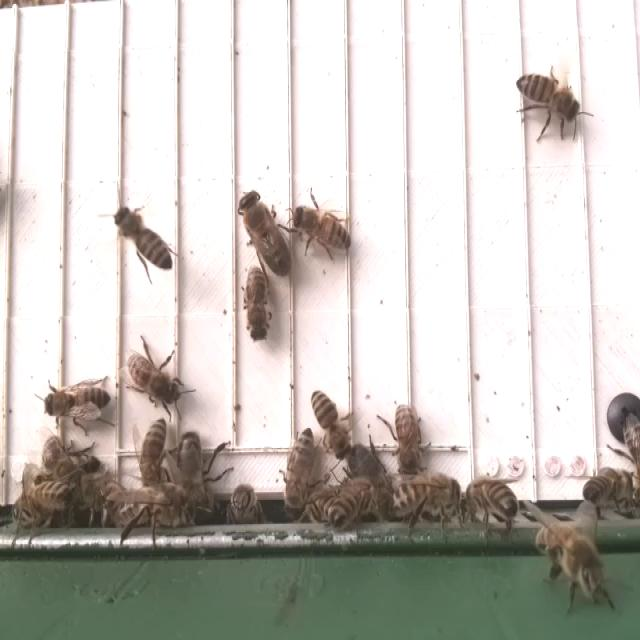Drone: (237, 186, 294, 280)
Worker: (112, 202, 175, 277), (513, 68, 581, 128), (126, 350, 183, 410), (309, 384, 351, 464), (42, 379, 113, 426), (291, 204, 355, 255), (283, 426, 318, 519), (390, 473, 462, 518), (139, 415, 171, 495), (241, 264, 273, 343), (391, 399, 423, 478)
